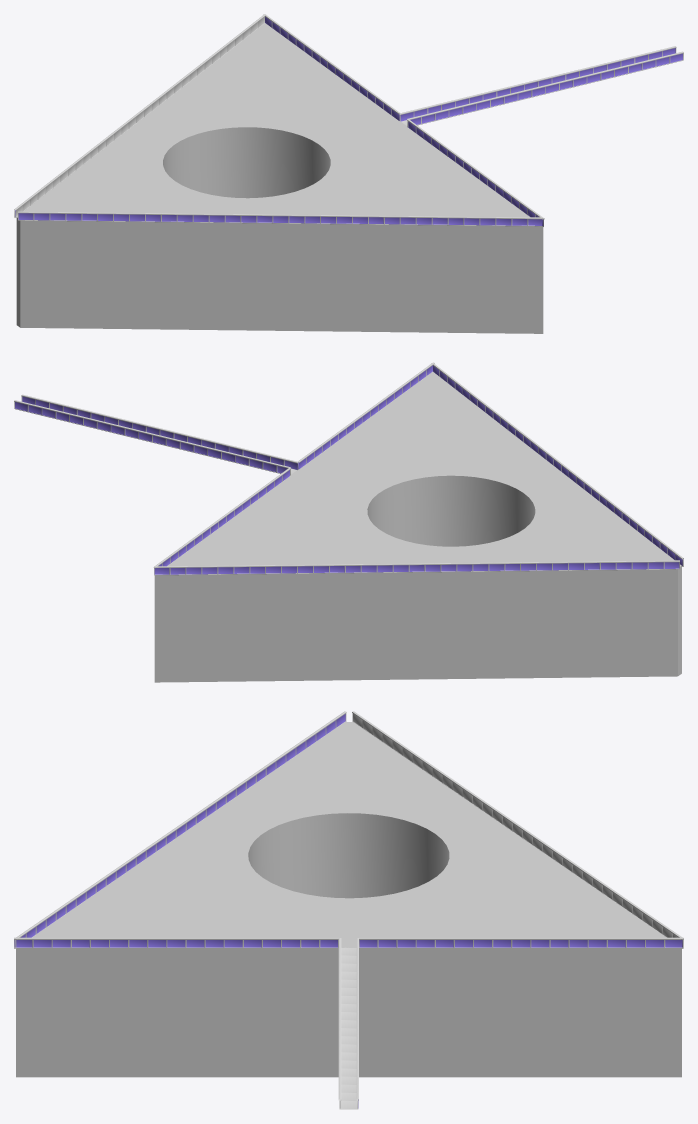
The model's file is Escenario.fbx.
3 views of the same model, one above another, from view 1: azimuth 30°, elevation 25°; view 2: azimuth 150°, elevation 25°; view 3: azimuth 270°, elevation 25° (orthographic). The views are drawn at different scales.
Visible parts, largest first — view 1: piso.002, baranda der.001, paarela principal, baranda der.002, baranda der, baranda iz; view 2: piso.002, baranda der.002, paarela principal, baranda der.001, baranda iz, baranda der; view 3: piso.002, baranda der.002, baranda der.001, baranda der, baranda iz, paarela principal.
Boxes of the visible parts, x1=… form: piso.002: x1=16, y1=23, x2=543, y2=333; baranda der.001: x1=18, y1=211, x2=543, y2=226; paarela principal: x1=399, y1=46, x2=683, y2=126; baranda der.002: x1=14, y1=14, x2=265, y2=217; baranda der: x1=263, y1=14, x2=400, y2=120; baranda iz: x1=407, y1=119, x2=544, y2=227; piso.002: x1=154, y1=372, x2=681, y2=682; baranda der.002: x1=154, y1=560, x2=679, y2=575; paarela principal: x1=14, y1=394, x2=298, y2=475; baranda der.001: x1=431, y1=363, x2=683, y2=566; baranda iz: x1=298, y1=362, x2=434, y2=469; baranda der: x1=153, y1=468, x2=290, y2=575; piso.002: x1=16, y1=722, x2=681, y2=1077; baranda der.002: x1=352, y1=711, x2=683, y2=948; baranda der.001: x1=15, y1=711, x2=346, y2=948; baranda der: x1=359, y1=937, x2=683, y2=948; baranda iz: x1=14, y1=937, x2=338, y2=948; paarela principal: x1=338, y1=938, x2=358, y2=1109.
Bounding box in the file's own units: 1374 × 229 × 1002.
